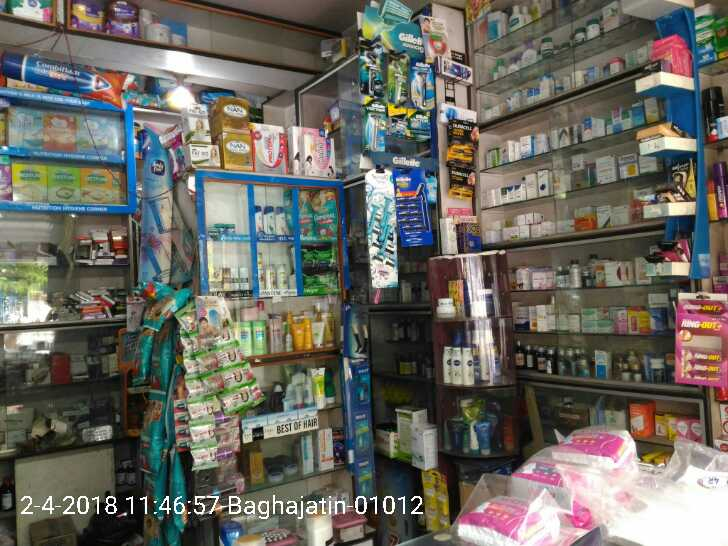vicks: (213, 220, 238, 235)
